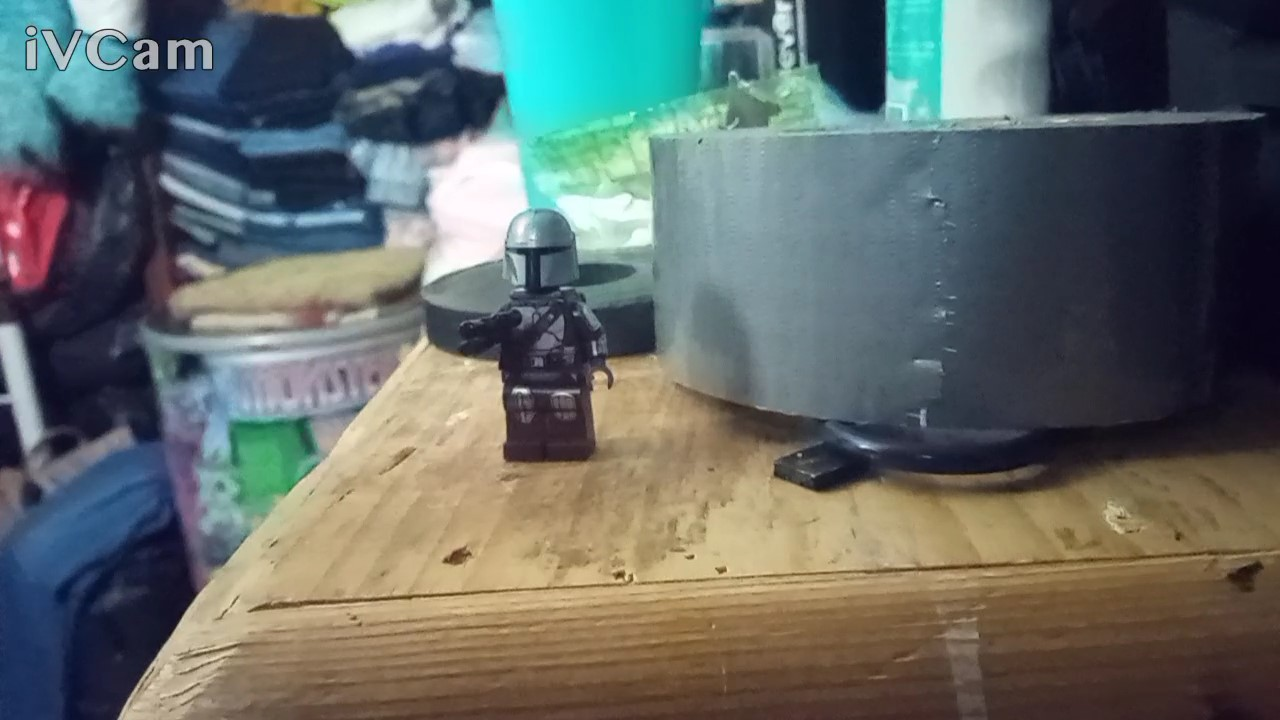mandalorian: (448, 193, 640, 476)
